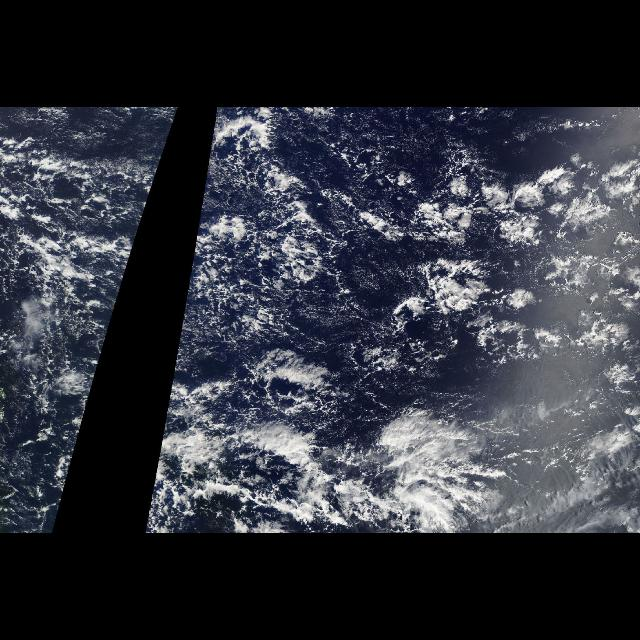Flower: (414, 138, 640, 358)
Gravel: (145, 113, 500, 531), (5, 113, 177, 531)
Sugar: (290, 258, 408, 350), (404, 115, 502, 167)
